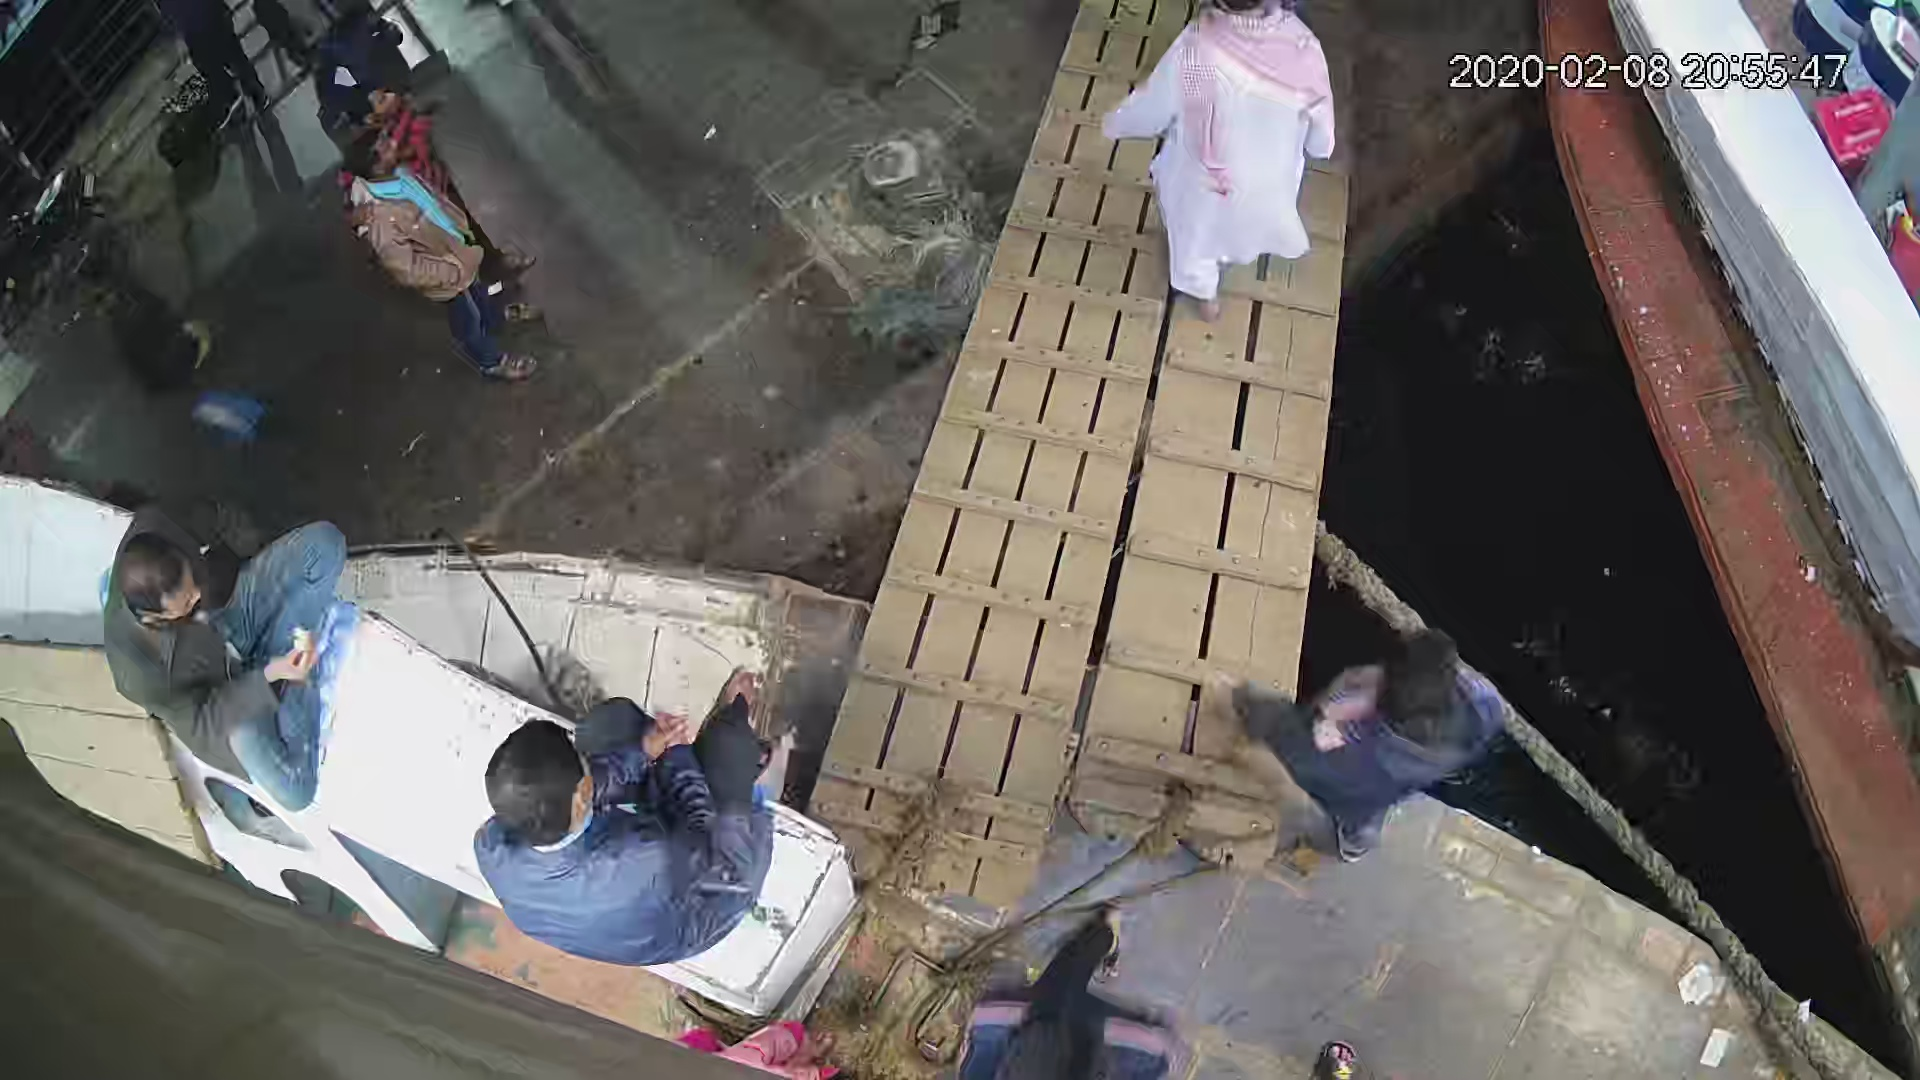person: (467, 655, 788, 973), (100, 486, 360, 815), (1091, 1, 1345, 327), (1215, 621, 1505, 869), (339, 132, 546, 386)
